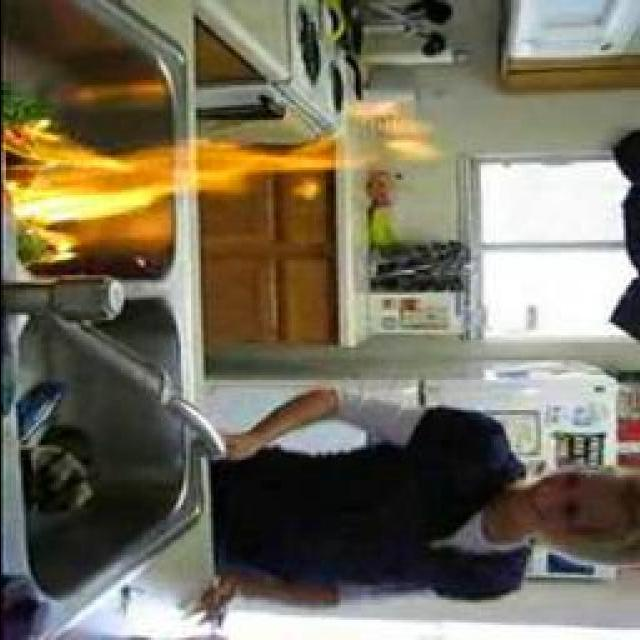Fire: (7, 103, 425, 263)
